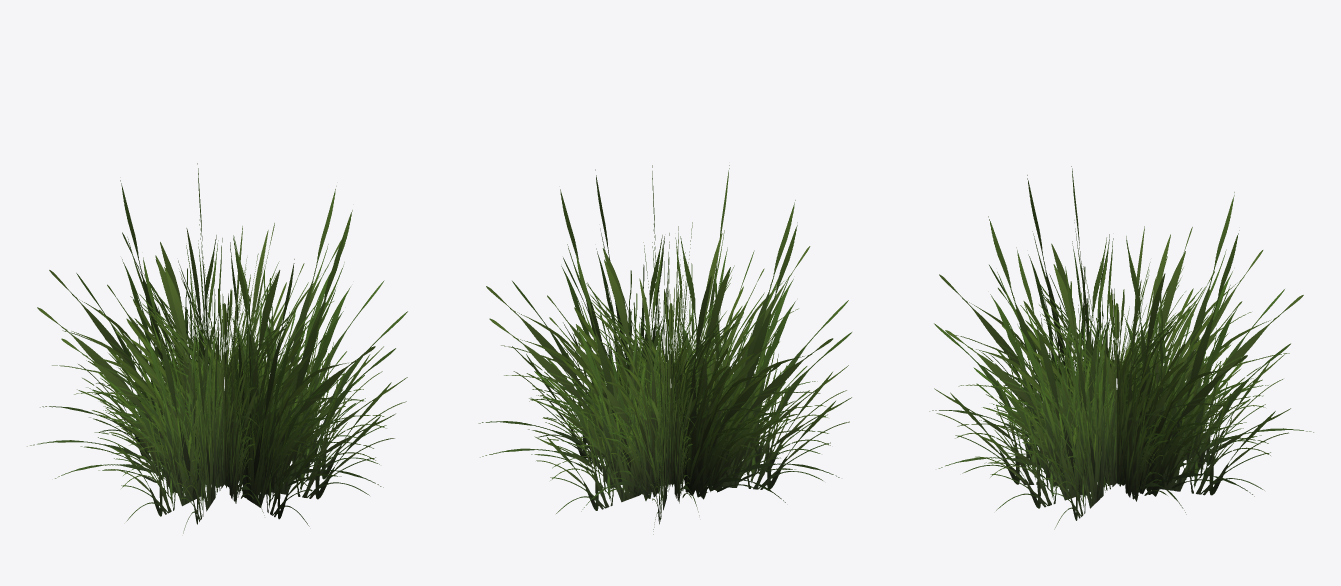
File: grass.obj
3 views of the same model, side by side, from view 1: azimuth 30°, elevation 25°; view 2: azimuth 150°, elevation 25°; view 3: azimuth 270°, elevation 25° (orthographic).
Parts seen in each view (by area): view 1: Plane; view 2: Plane; view 3: Plane.
Boxes of the visible parts, x1=… form: Plane: x1=27, y1=163, x2=407, y2=533; Plane: x1=478, y1=165, x2=851, y2=534; Plane: x1=929, y1=166, x2=1313, y2=529.
Bounding box in the file's own units: 2 × 2 × 2.
1 material, 1 textured.
